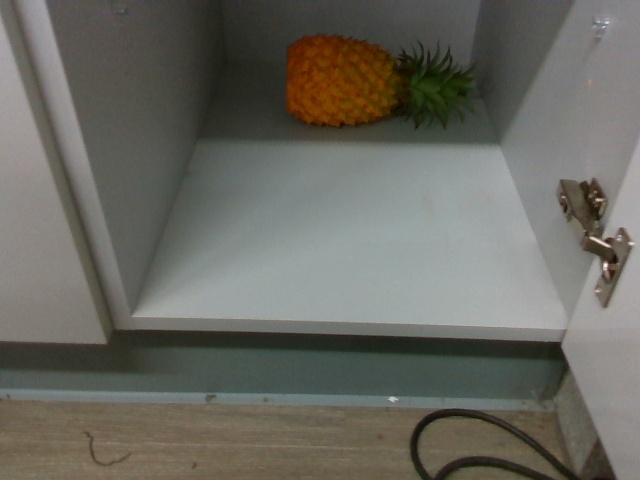pineapple: (281, 27, 485, 138)
